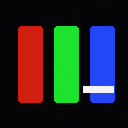3 line_h: (83, 86, 113, 92)
